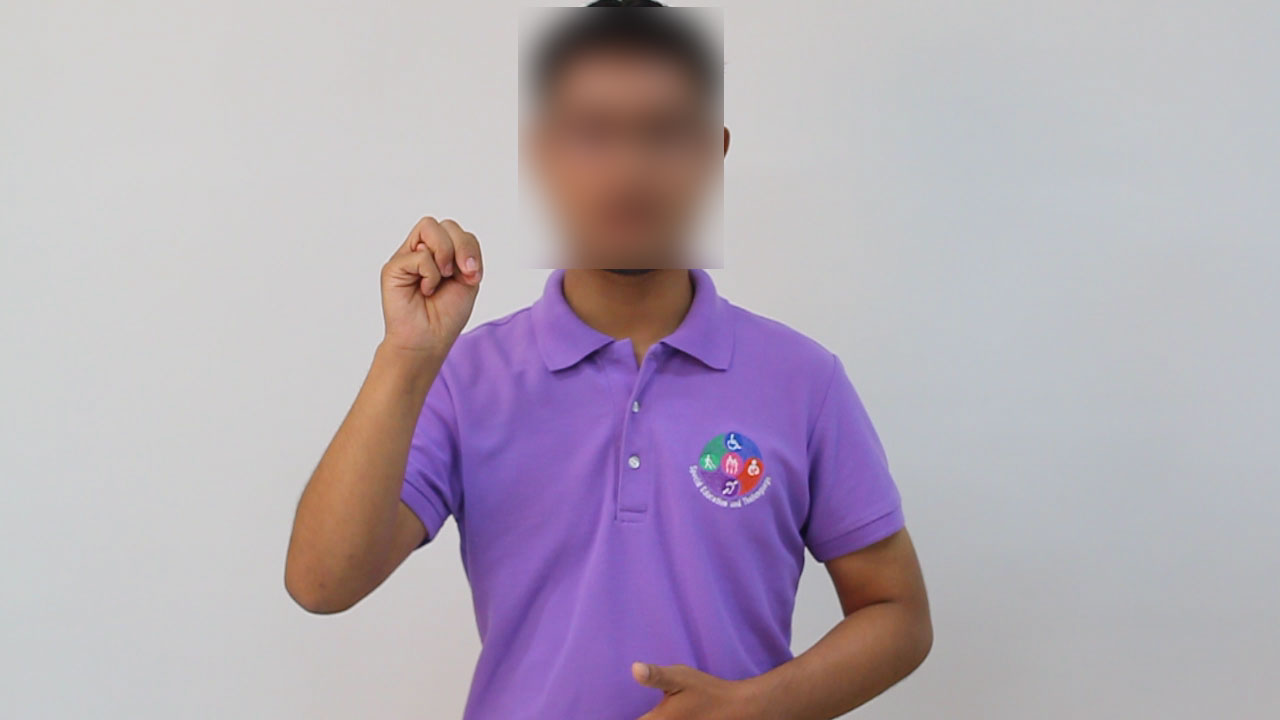mor: (376, 199, 492, 369)
